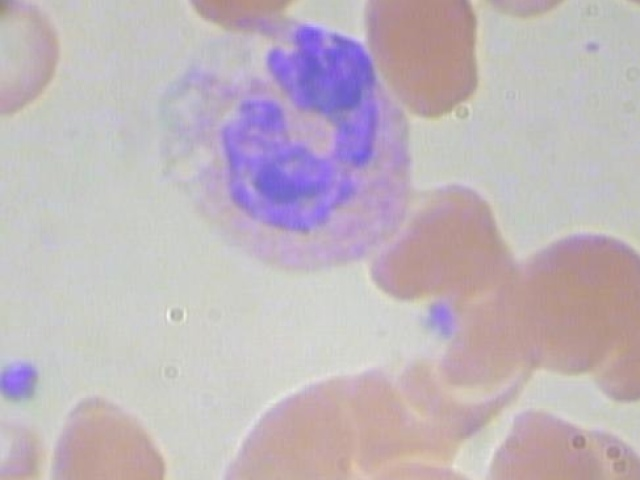Platelets: (0, 351, 48, 406), (416, 291, 462, 341)
RBC: (353, 0, 492, 119), (518, 228, 640, 356), (214, 385, 359, 480), (41, 385, 177, 480), (482, 398, 608, 480), (0, 0, 70, 126), (435, 0, 595, 29), (0, 413, 57, 480), (172, 0, 324, 25), (585, 0, 640, 18)
WBC: (122, 5, 418, 282)
